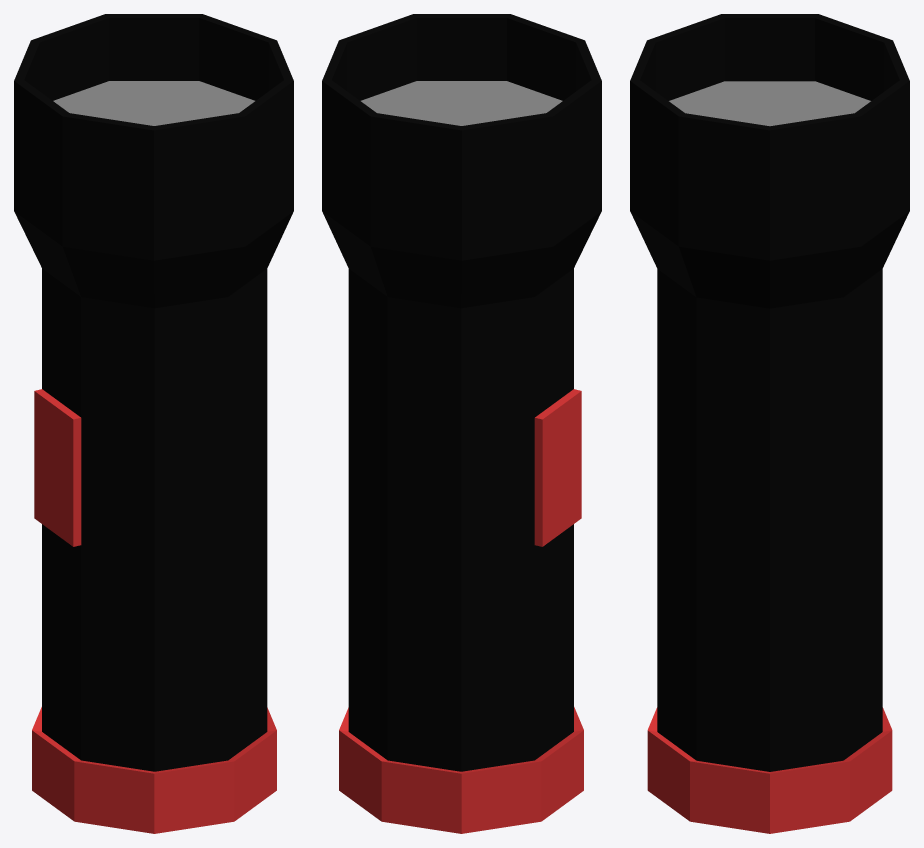
The model's file is Flashlight.fbx.
3 renders of one model, left to right at view 1: azimuth 30°, elevation 25°; view 2: azimuth 150°, elevation 25°; view 3: azimuth 270°, elevation 25°, orthographic.
Visible parts, largest first — view 1: Flashlight; view 2: Flashlight; view 3: Flashlight.
Part boxes in pixels (left/top/right/bottom): Flashlight: left=14, top=14, right=293, bottom=833; Flashlight: left=322, top=14, right=601, bottom=833; Flashlight: left=630, top=14, right=909, bottom=833.
Size of the model in its own units: 71.43 by 203 by 72.54.
